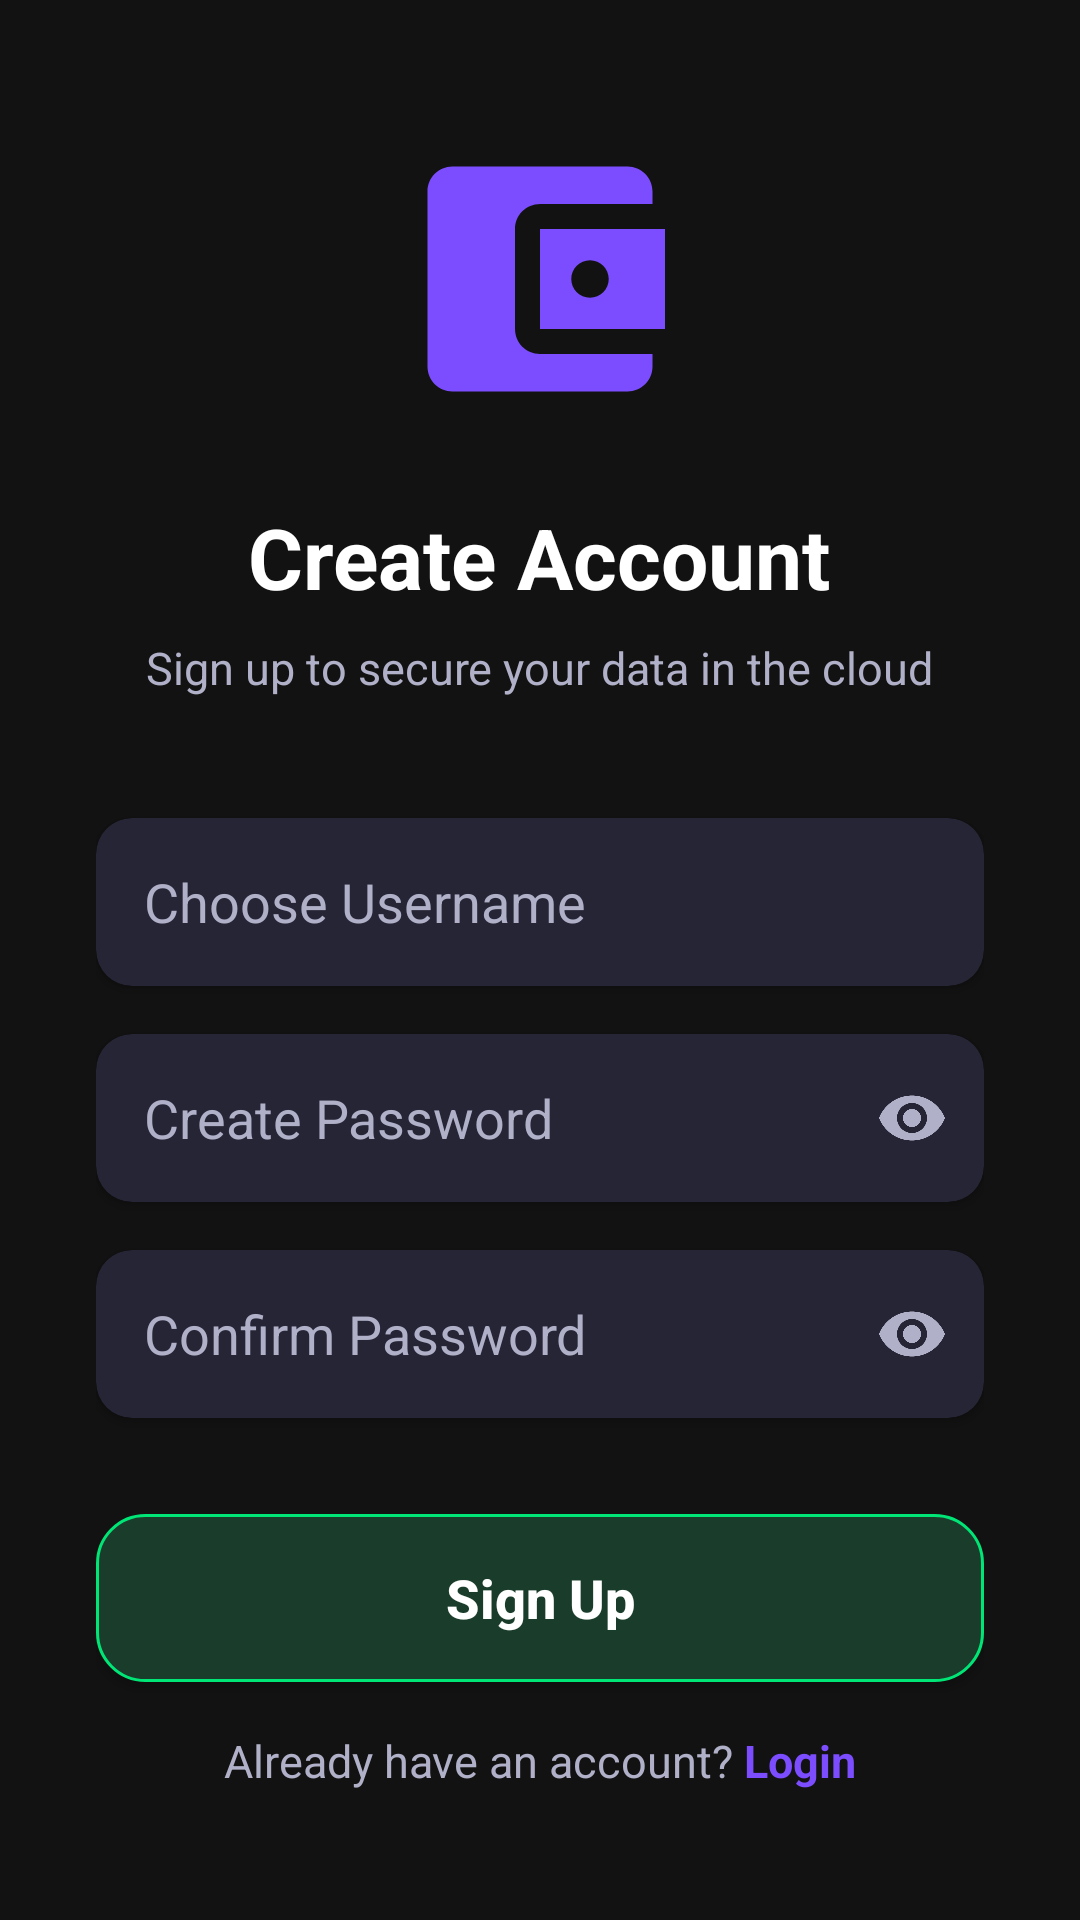

Screen size 1080 × 1920. Icon name, then its center in pixels as (x=x, y=y):
wallet: (x=546, y=279)
